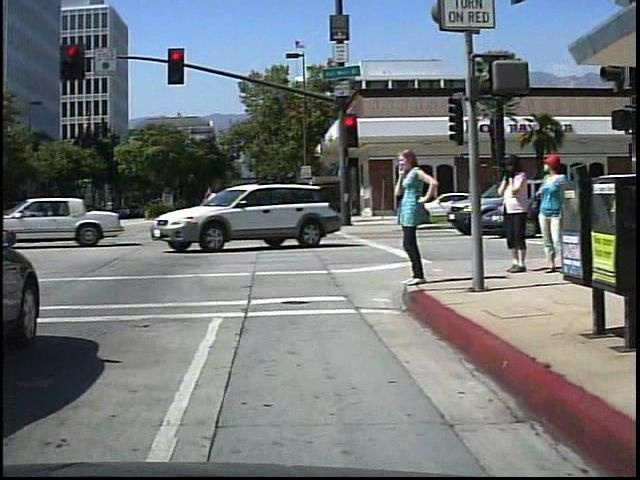person: (389, 145, 436, 291), (529, 146, 571, 273), (489, 148, 531, 273)
